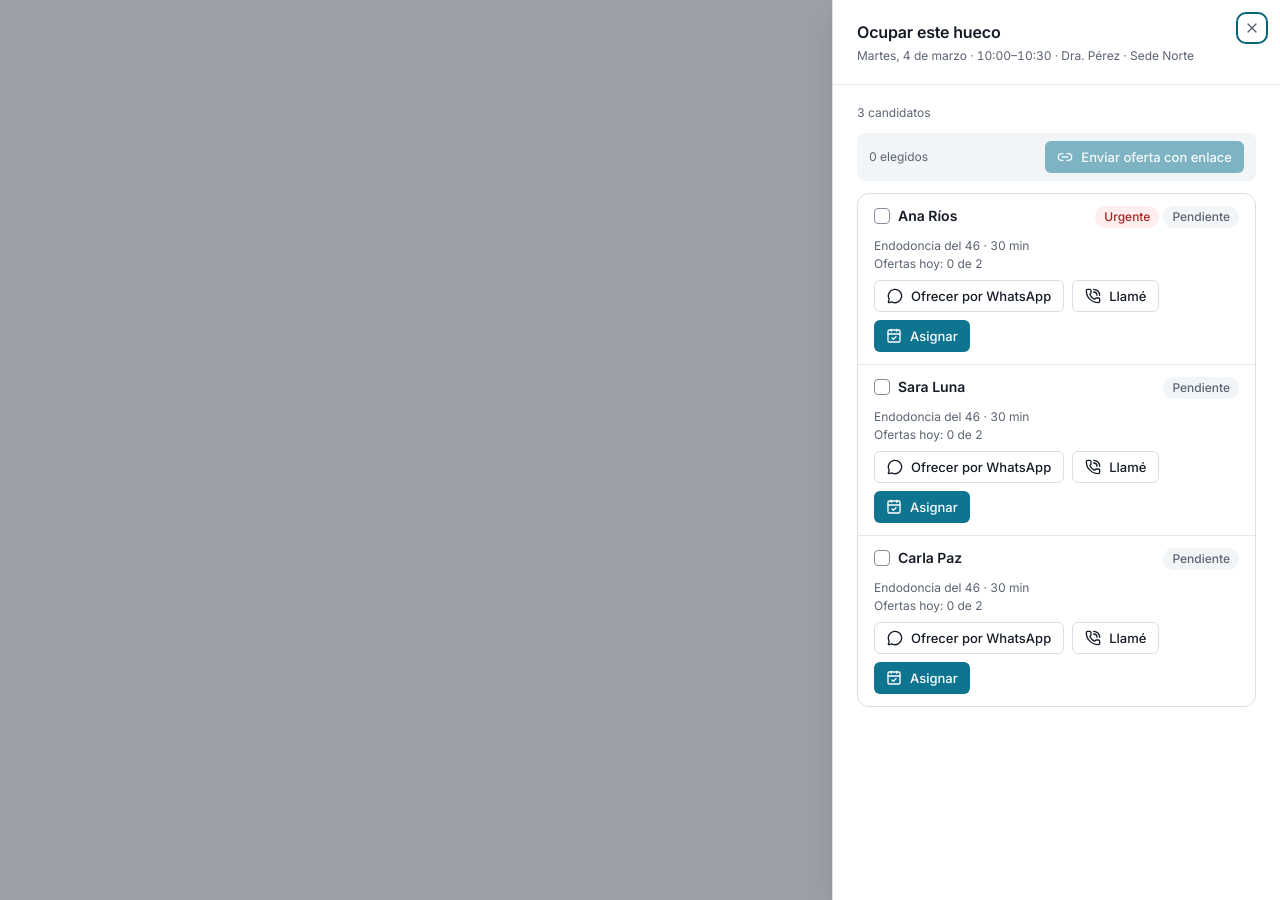
Test: «Ocupar este hueco» (DX-210) › DX-435: oferta con enlace › por email: quien no tiene correo queda fuera y el error de uno no frena a los demás
Click the checkbox named "Elegir a Ana Ríos para la oferta con enlace": (882,216) [874,208,890,224]
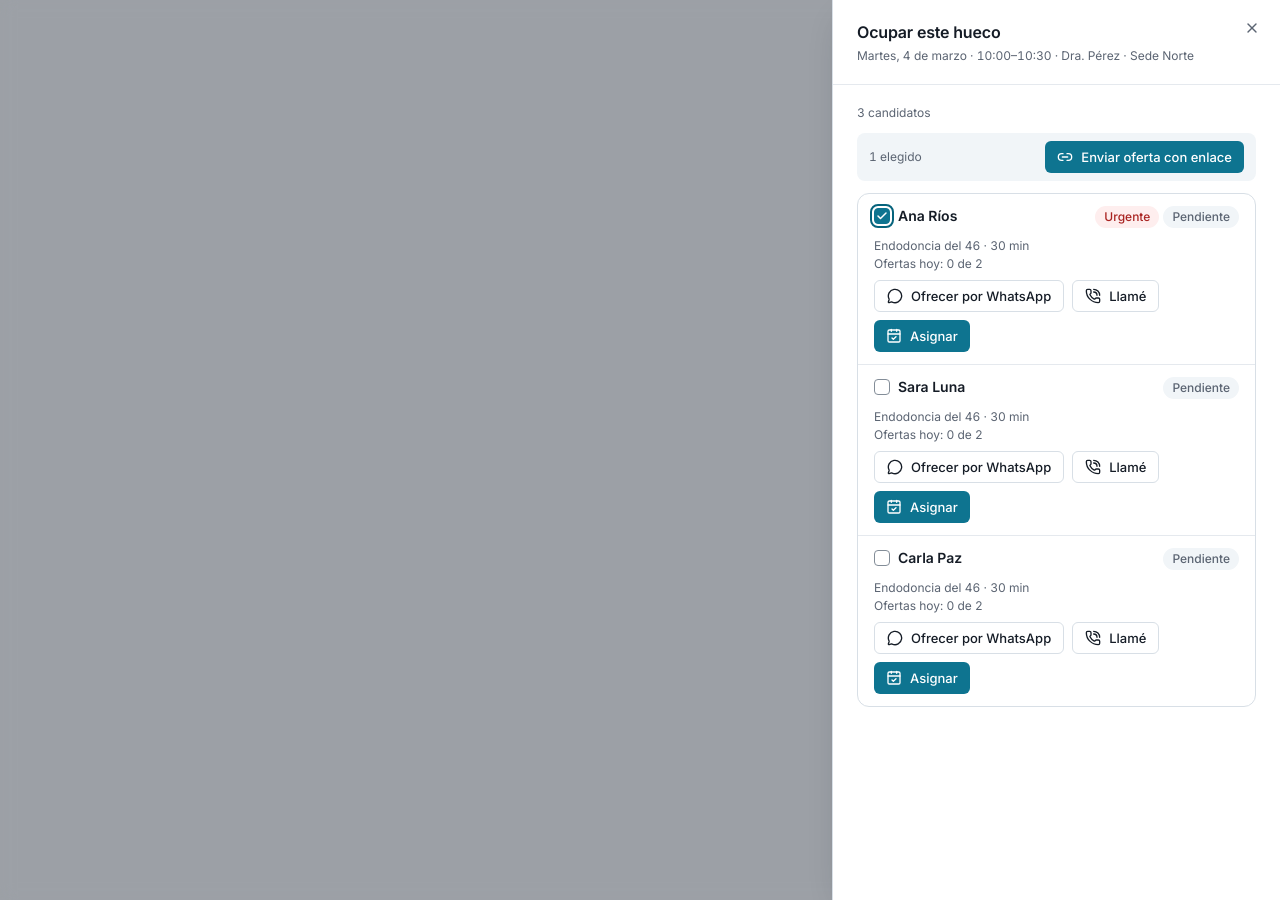
Click the checkbox labelled "Sara Luna": (882,387) [874,379,890,395]
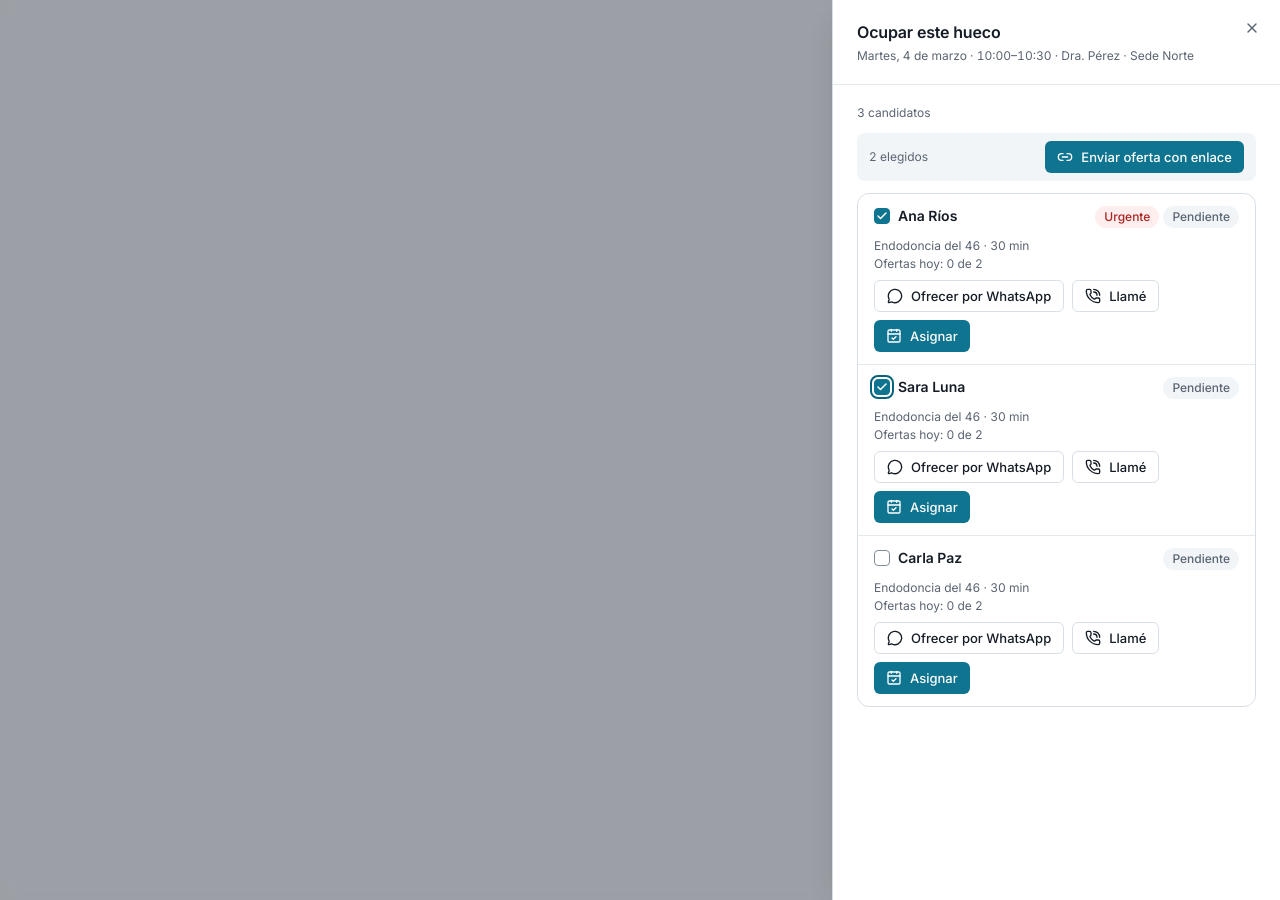
Click the checkbox named "Elegir a Carla Paz para la oferta con enlace": (882,558) [874,550,890,566]
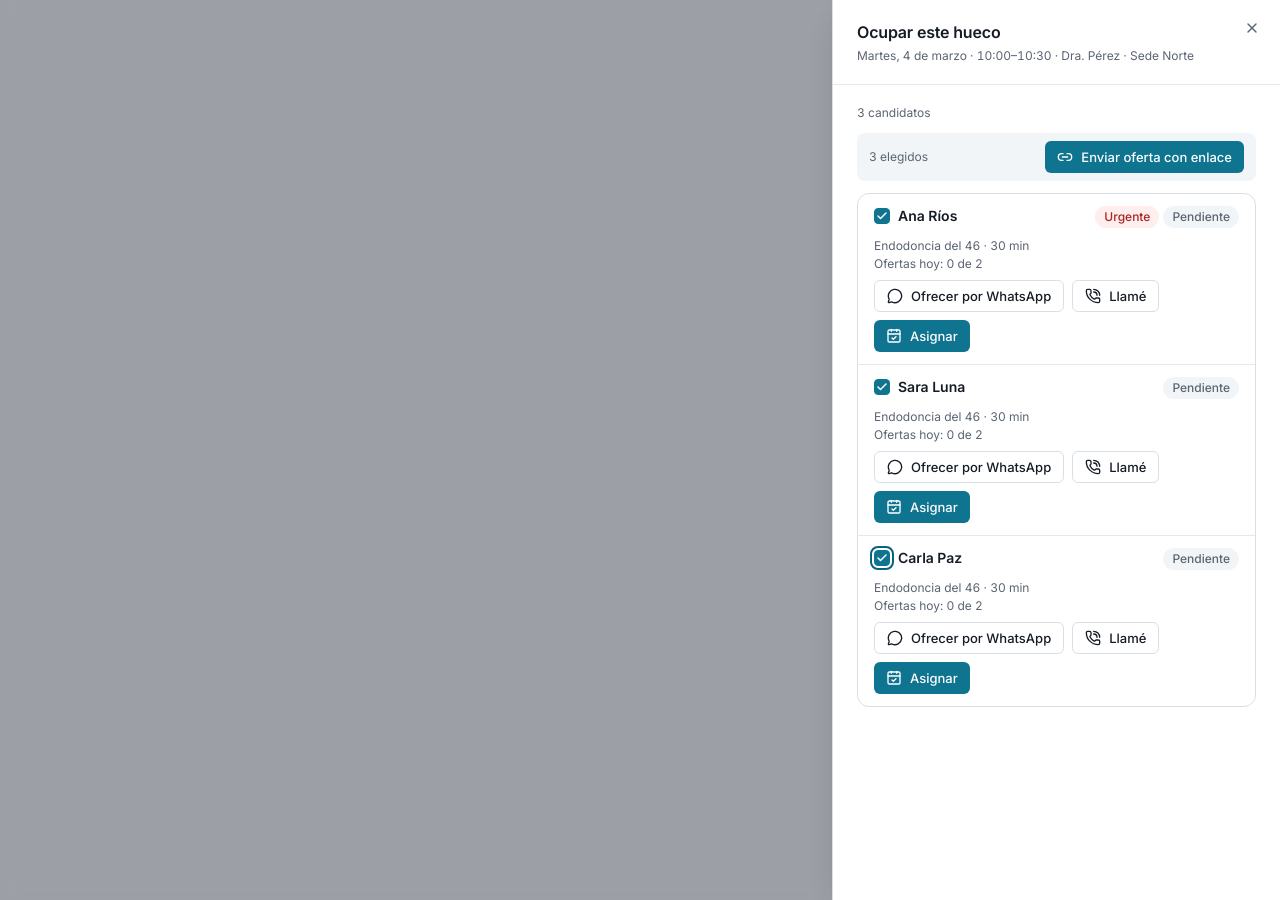
Click the button "Enviar oferta con enlace": (1145,157) [1045,141,1244,173]
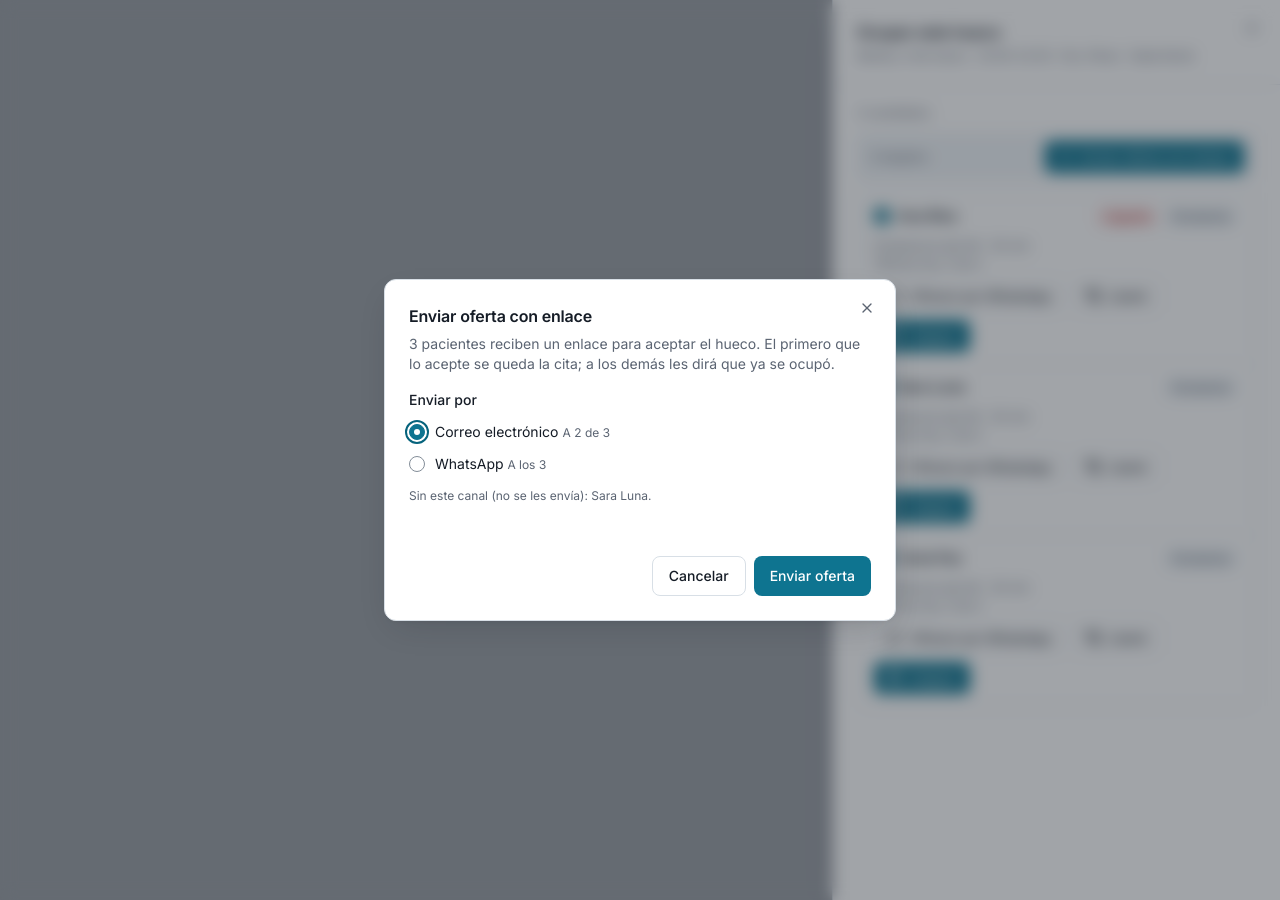
Expected: the text "Sin este canal (no se les envía): Sara Luna." is shown, [409,488,652,503]
Click the button "Enviar oferta": (812,576) [754,556,871,596]
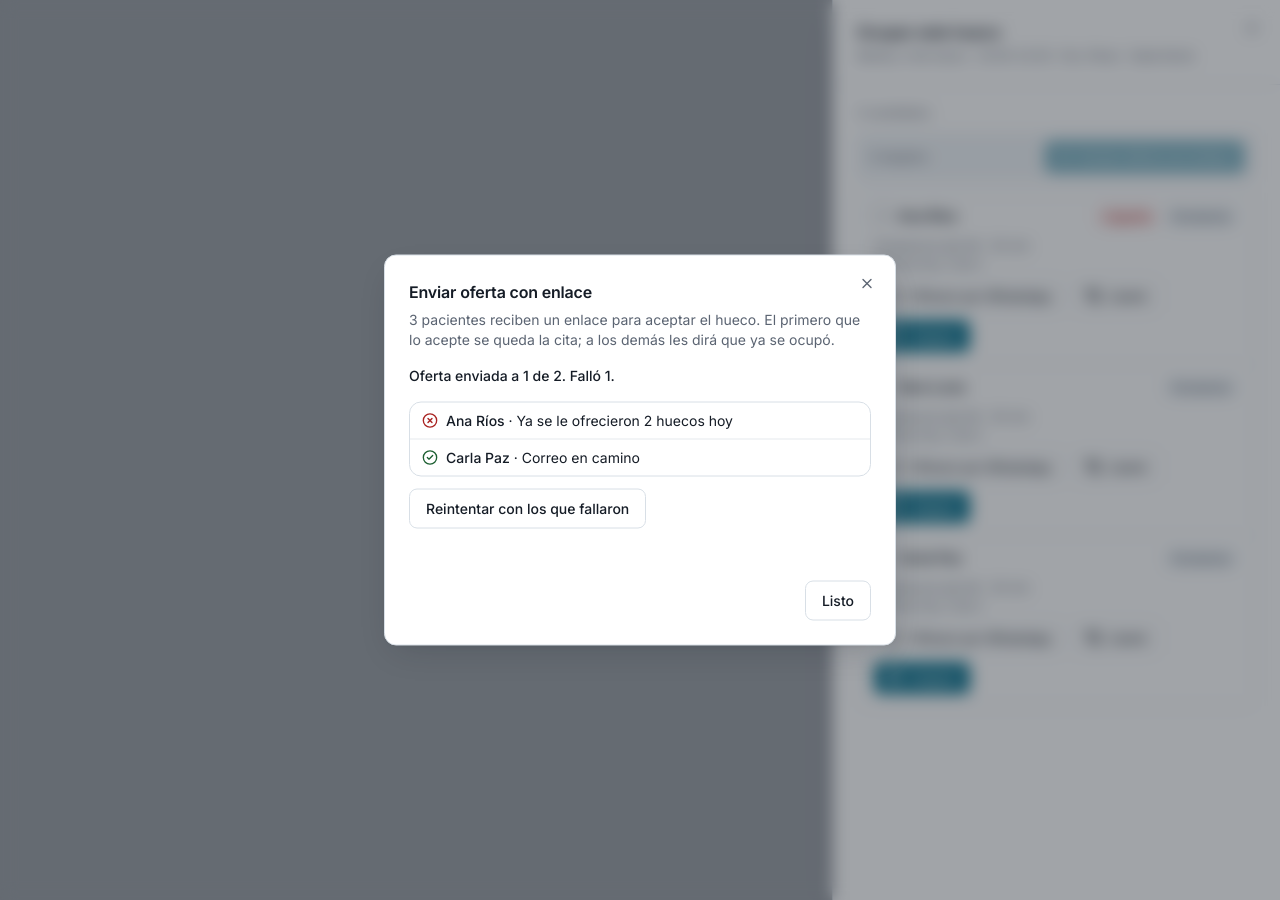
Expected: the list with test id "link-offer-results" shows "Ana Ríos · Ya se le ofrecieron 2 huecos hoy", [409,402,871,476]
Expected: the list with test id "link-offer-results" shows "Carla Paz · Correo en camino", [409,402,871,476]
